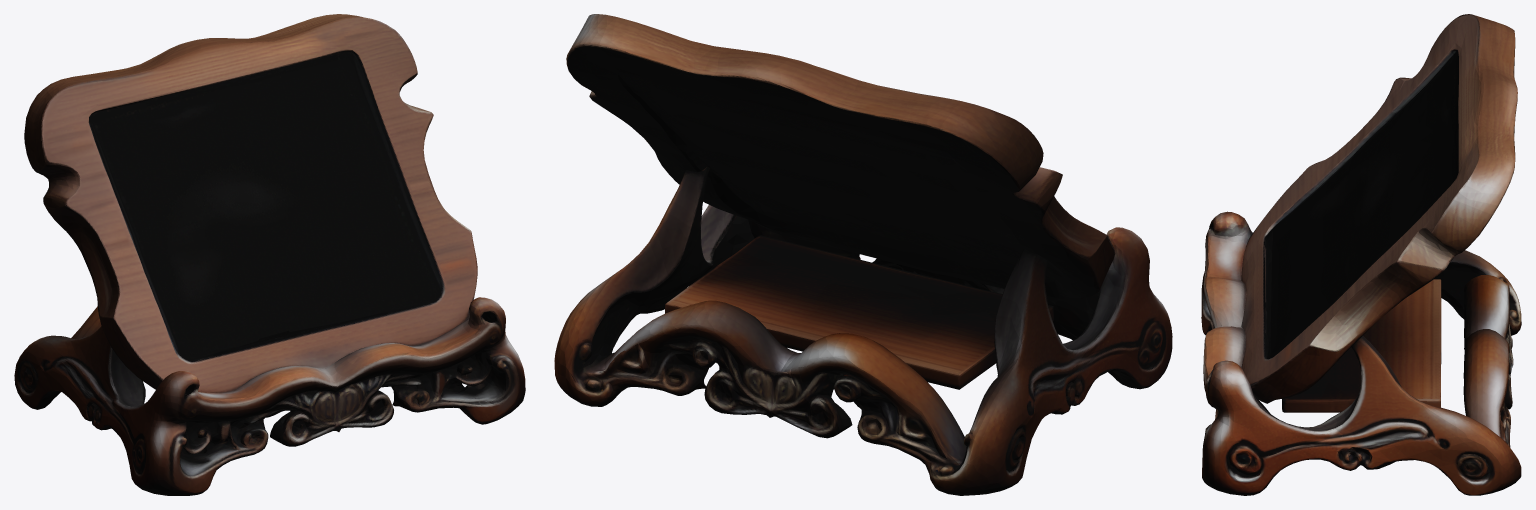
The model's file is wooden-tablet-stand-3d.jpeg.glb.
3 views of the same model, side by side, from view 1: azimuth 30°, elevation 25°; view 2: azimuth 150°, elevation 25°; view 3: azimuth 270°, elevation 25° (orthographic). The views are drawn at different scales.
Visible parts, largest first — view 1: world; view 2: world; view 3: world.
Boxes of the visible parts, x1,y1,x2,y2 form: world: (14, 14, 525, 495); world: (554, 14, 1172, 495); world: (1201, 14, 1521, 495).
Size of the model in its own units: 0.9997 by 0.8054 by 0.722.
Materials: 1 (1 with a texture image).
